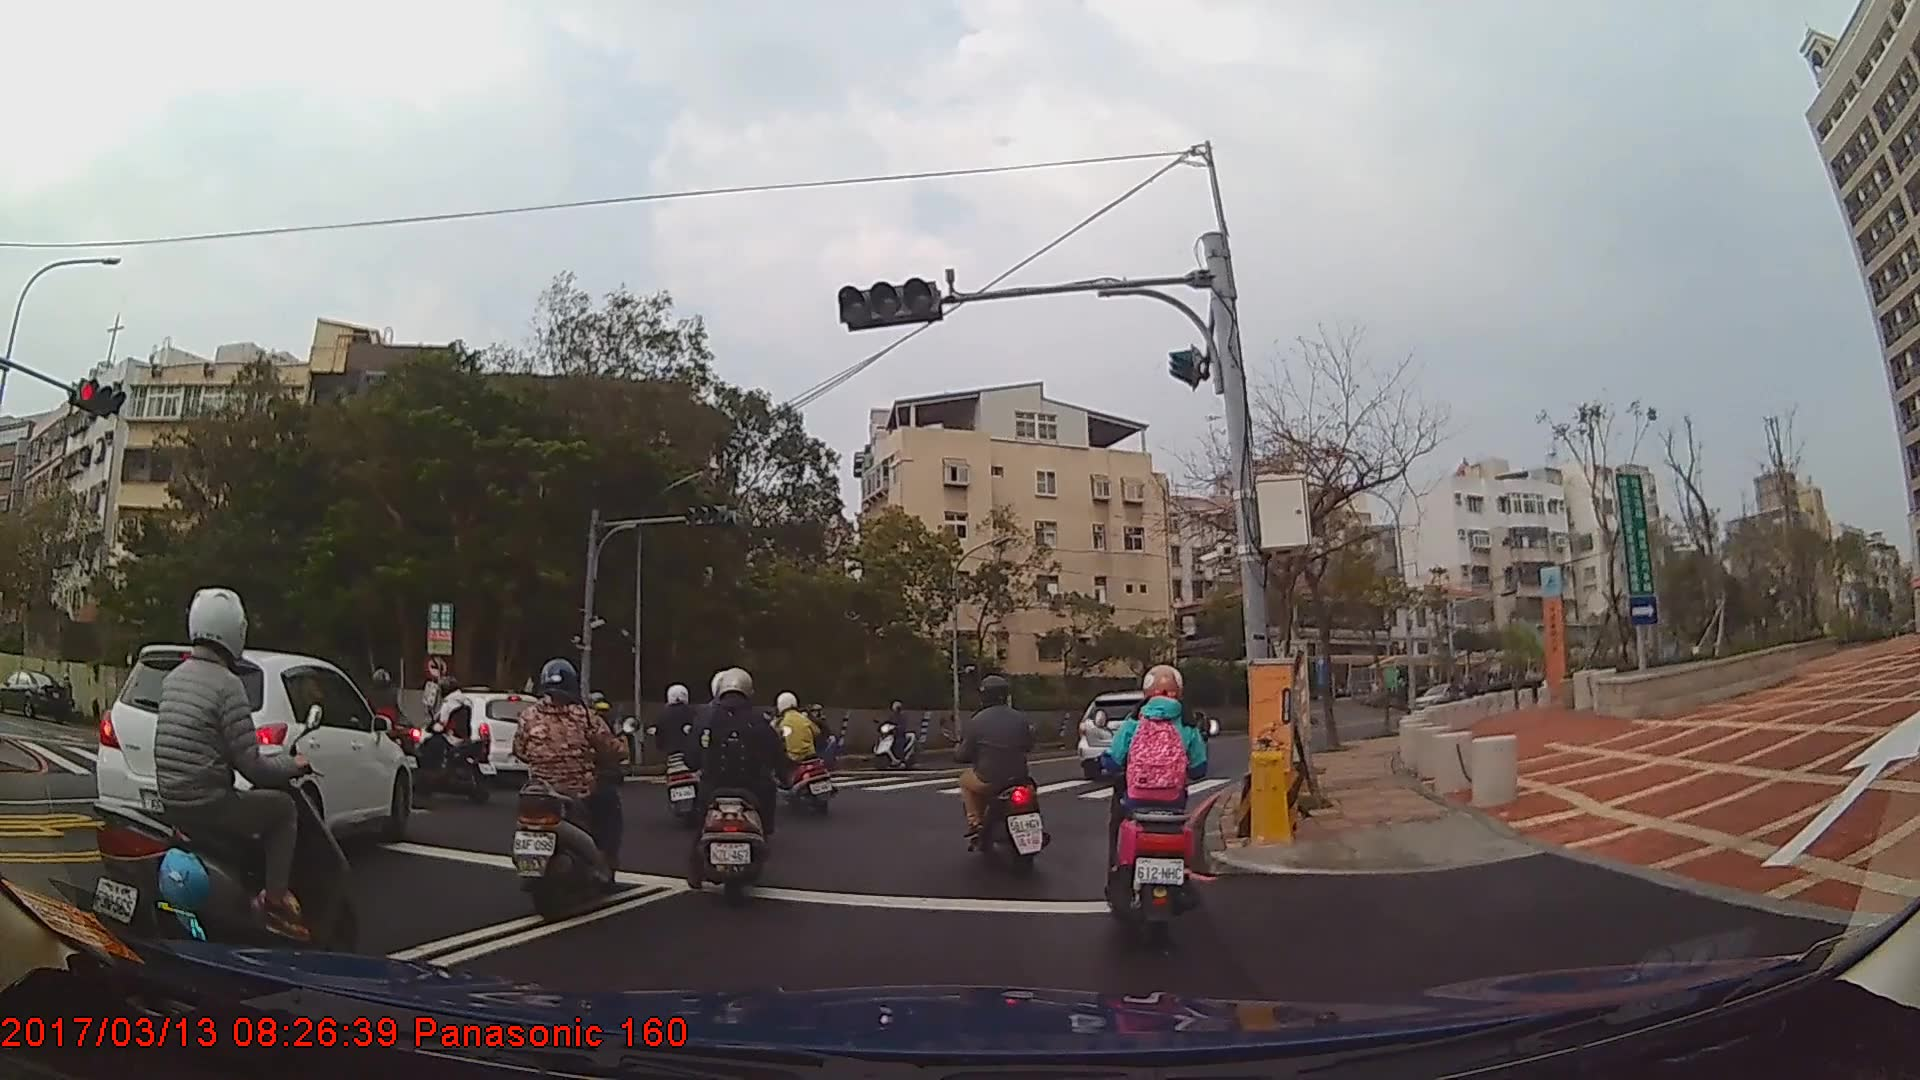rider: (84, 587, 364, 987), (512, 657, 633, 921), (1104, 660, 1213, 929), (687, 665, 783, 905), (954, 673, 1047, 874), (644, 681, 716, 828), (767, 690, 842, 820), (356, 664, 423, 796), (416, 671, 479, 785), (871, 700, 921, 766)
vehicle: (94, 641, 407, 862), (415, 687, 548, 785), (1075, 686, 1204, 776), (0, 663, 70, 719)
